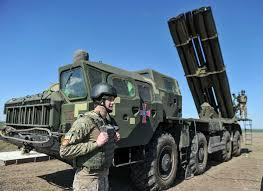MIL_SAM_TEL: (0, 5, 243, 190)
